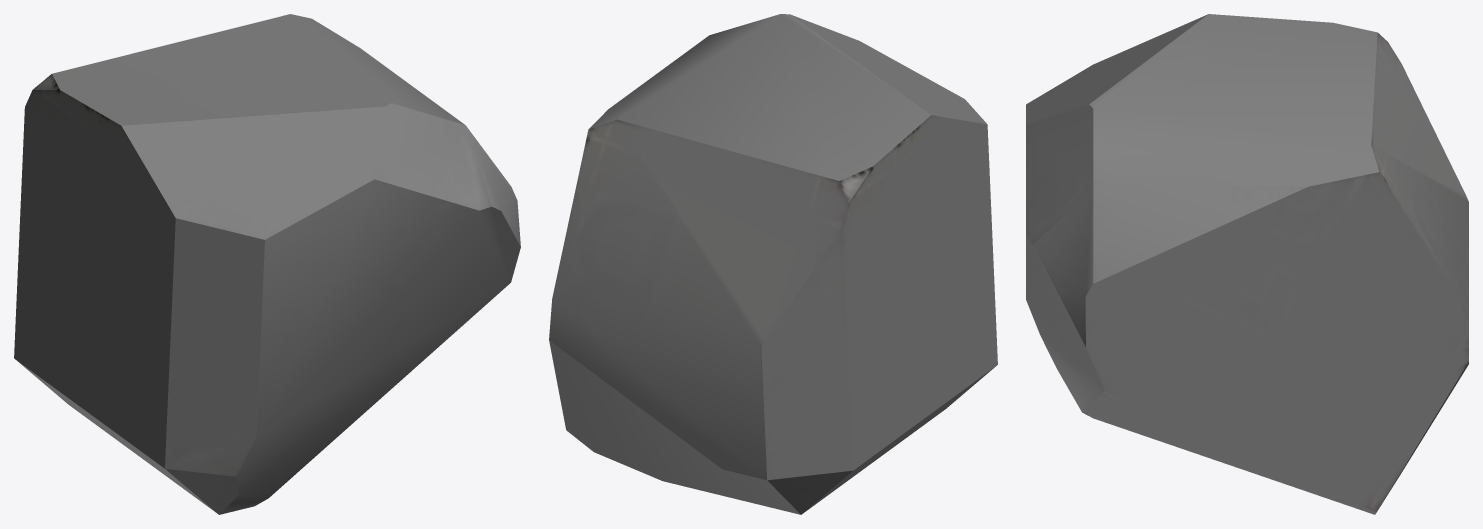
File: PedraQuadrada.fbx
3 renders of one model, left to right at view 1: azimuth 30°, elevation 25°; view 2: azimuth 150°, elevation 25°; view 3: azimuth 270°, elevation 25°, orthographic. The views are drawn at different scales.
Visible parts, largest first — view 1: Pedra1; view 2: Pedra1; view 3: Pedra1.
Part boxes in pixels (x1,y1,x2,y2): Pedra1: [14, 14, 520, 514]; Pedra1: [549, 14, 997, 514]; Pedra1: [1026, 14, 1468, 514].
Bounding box in the file's own units: 114 × 114 × 121.
